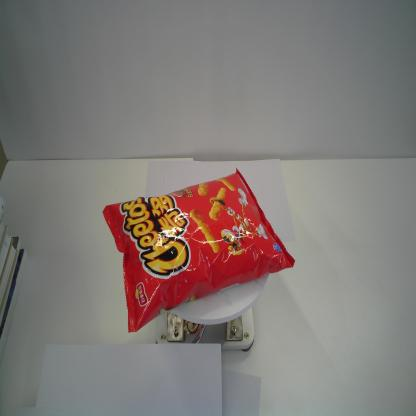Puffed Food: (100, 167, 297, 337)
